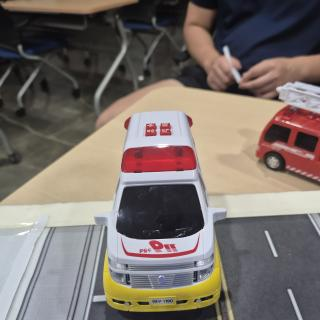Ambulance: (94, 111, 227, 312)
